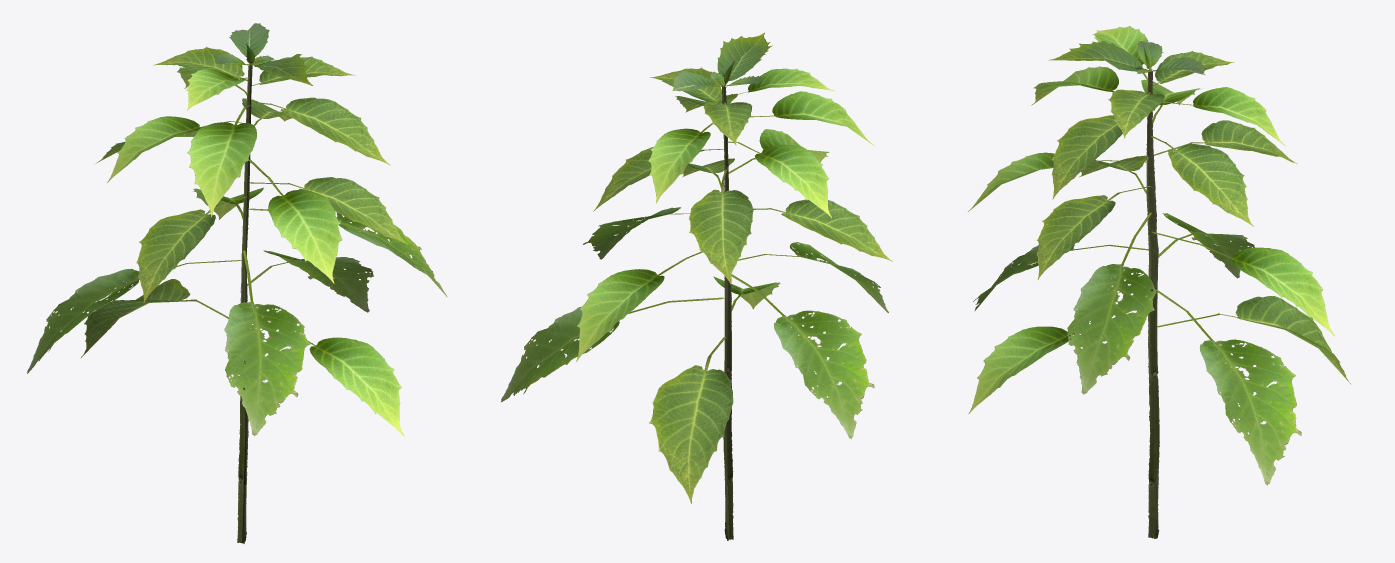
File: m_grass_36.fbx
The picture shows the model from 3 angles, left to right: view 1: azimuth 30°, elevation 25°; view 2: azimuth 150°, elevation 25°; view 3: azimuth 270°, elevation 25°; orthographic projection. The views are drawn at different scales.
Visible parts, largest first — view 1: mesh_grass_36_LOD0; view 2: mesh_grass_36_LOD0; view 3: mesh_grass_36_LOD0.
Part boxes in pixels (x1,y1,x2,y2): mesh_grass_36_LOD0: [27, 23, 447, 543]; mesh_grass_36_LOD0: [501, 32, 892, 540]; mesh_grass_36_LOD0: [968, 26, 1351, 538].
Size of what is drawn, in the model's own units: 81.49 by 96.45 by 76.9.
